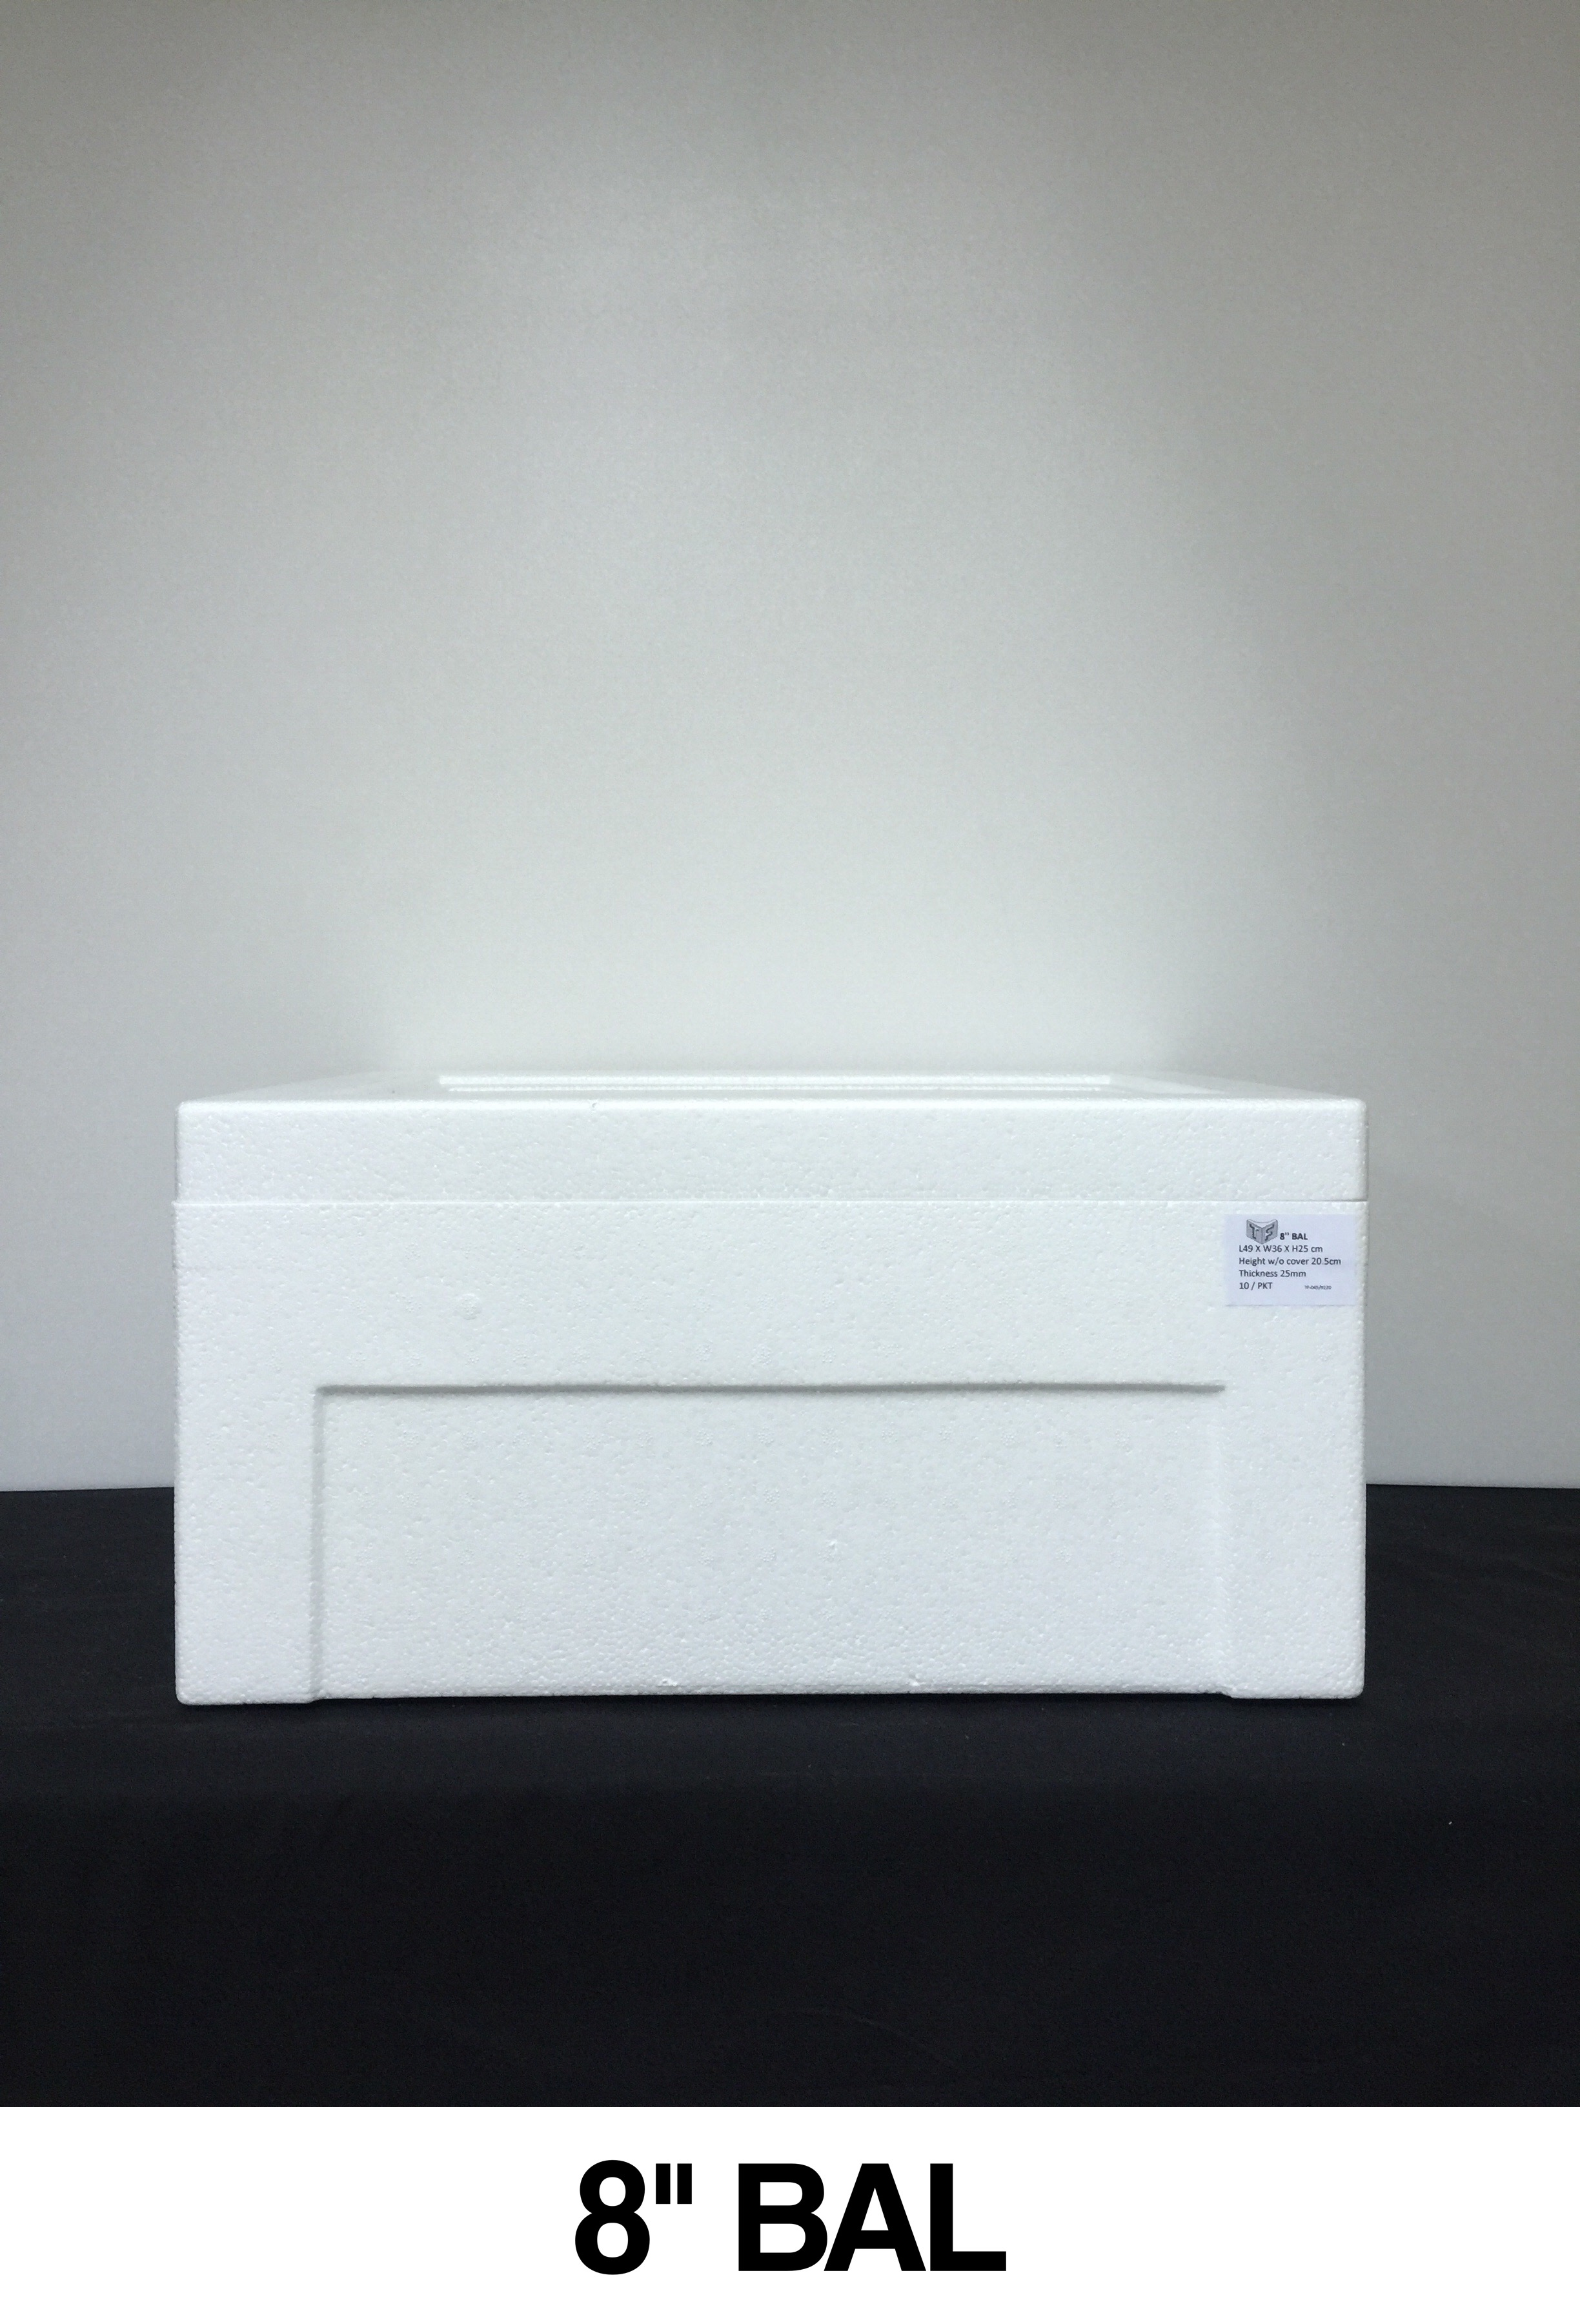Foam Box: (123, 1042, 1412, 1733)
